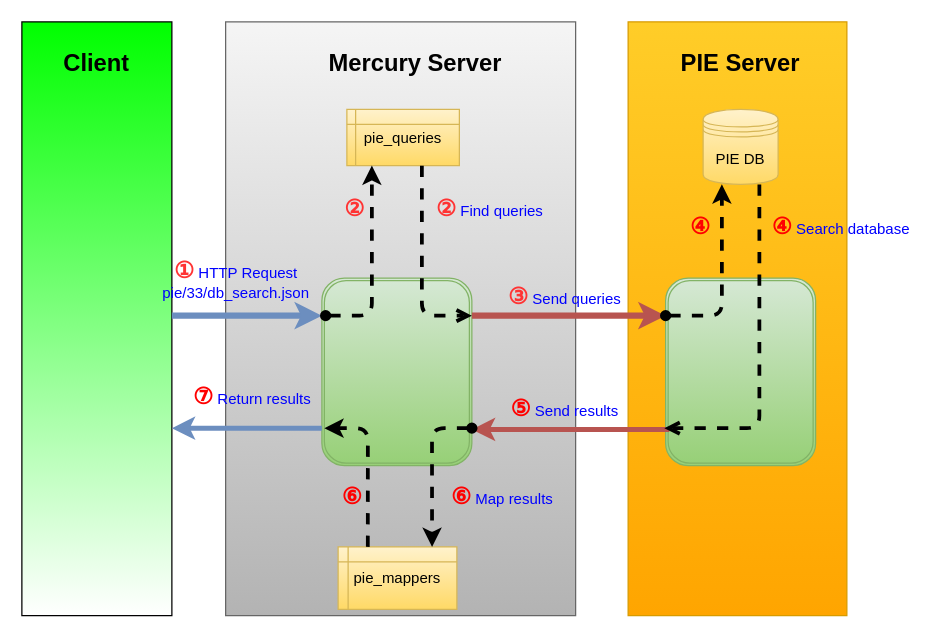
This 930x638 diagram has some shape labels left out. Here are the shapes that lost their labels. From the top down, the box of each, then its label:
(321, 277, 472, 466): PieQueryController
(664, 277, 816, 466): QueryController
